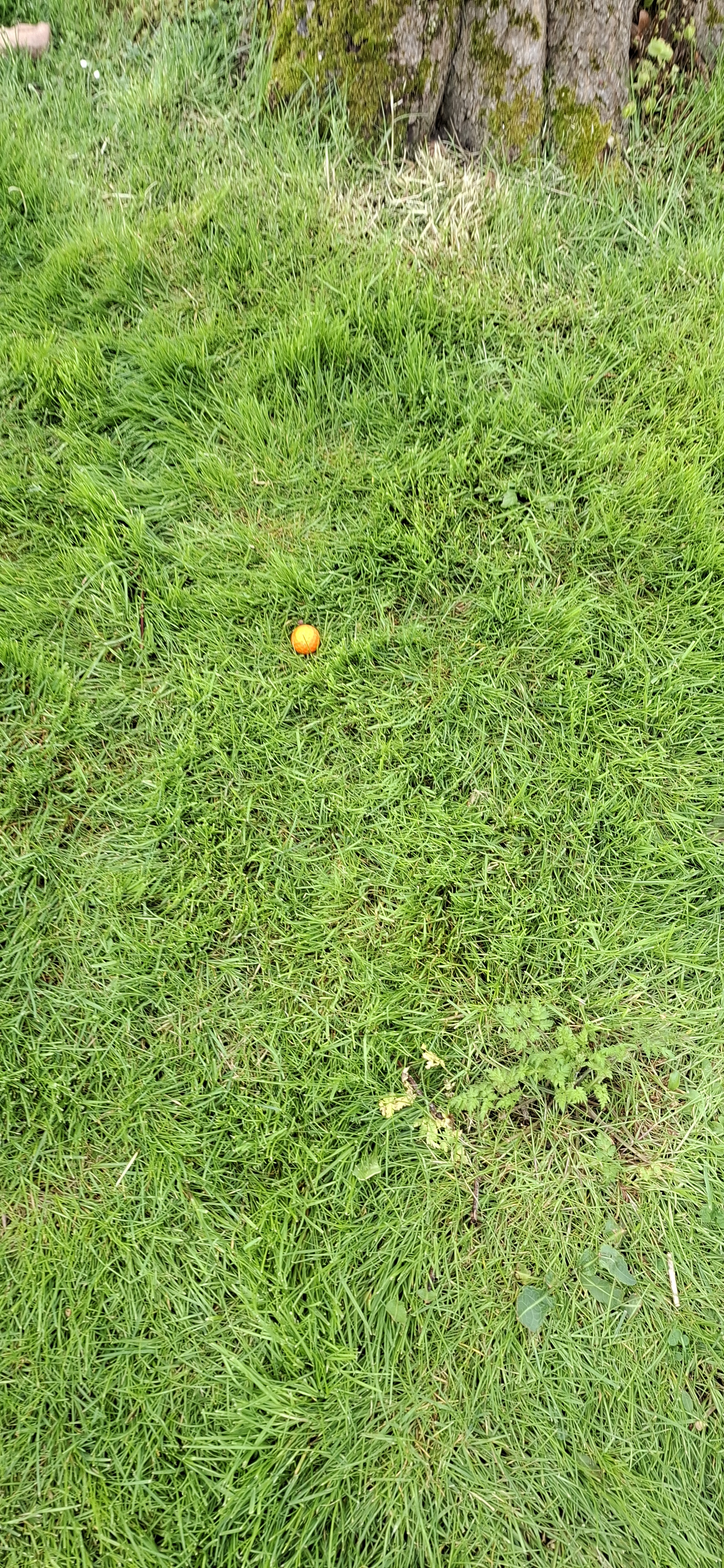ball: (289, 876, 303, 939)
